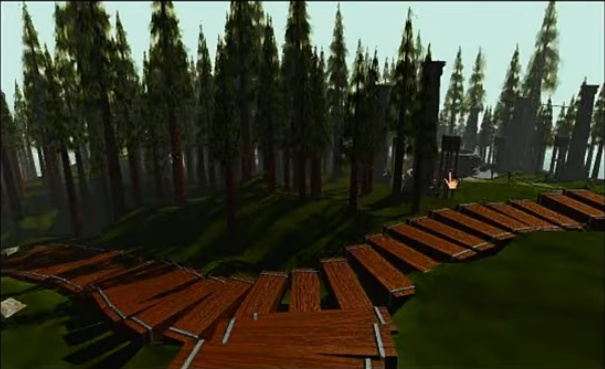Pointer: (440, 168, 463, 191)
